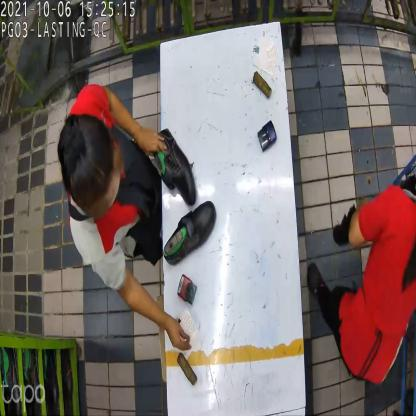shoes: (156, 129, 216, 264)
stamp: (176, 275, 200, 311), (257, 122, 277, 156)
